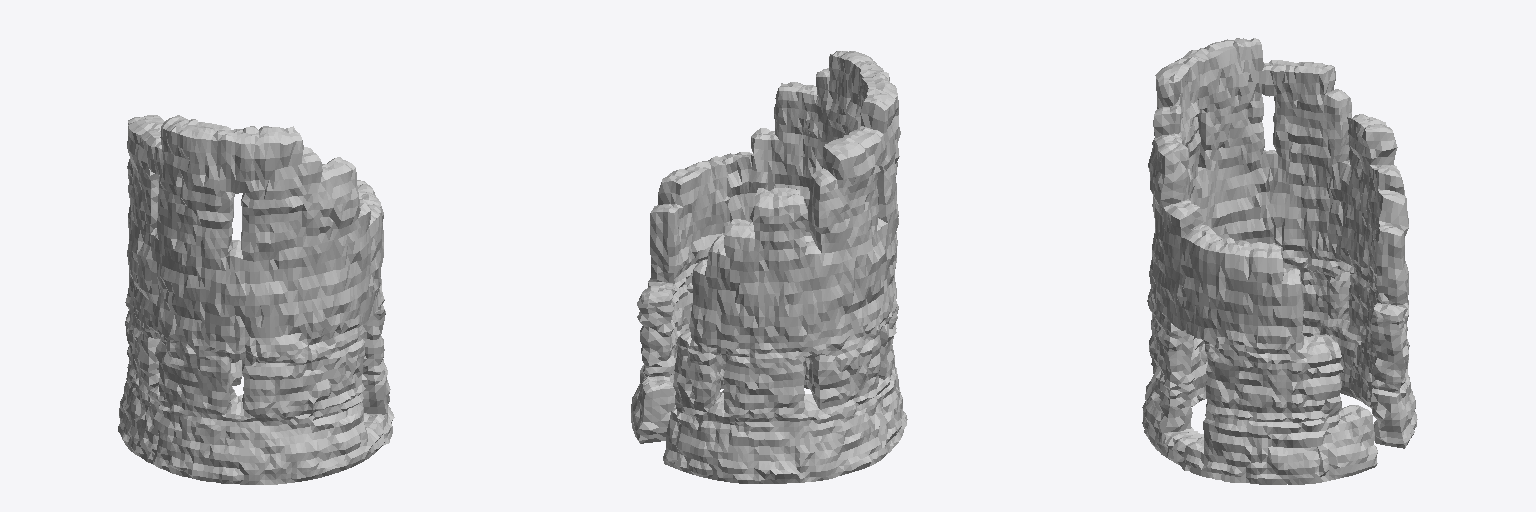
File: medium_tower.obj
3 views of the same model, side by side, from view 1: azimuth 30°, elevation 25°; view 2: azimuth 150°, elevation 25°; view 3: azimuth 270°, elevation 25° (orthographic).
Visible parts, largest first — view 1: pack_oldtowers; view 2: pack_oldtowers; view 3: pack_oldtowers.
Part boxes in pixels (x1,y1,x2,y2): pack_oldtowers: (118,115,394,484); pack_oldtowers: (631,51,907,483); pack_oldtowers: (1142,38,1417,484).
Size of the model in its own units: 45.63 by 63.21 by 45.43.